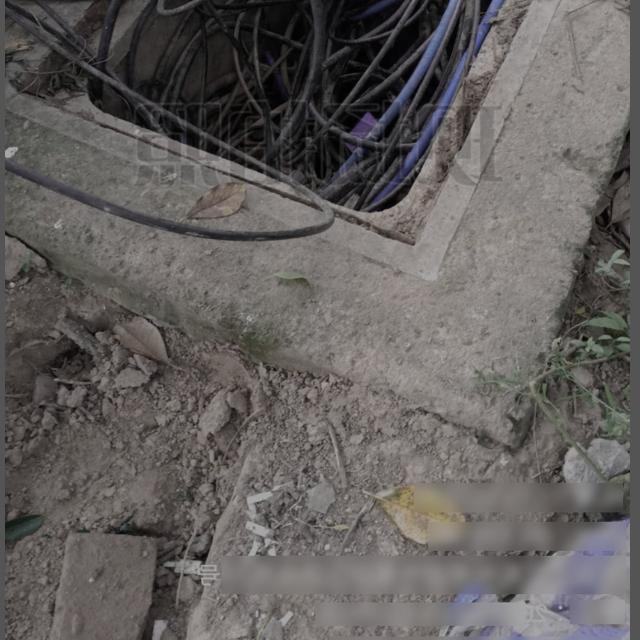lose: (5, 0, 611, 277)
